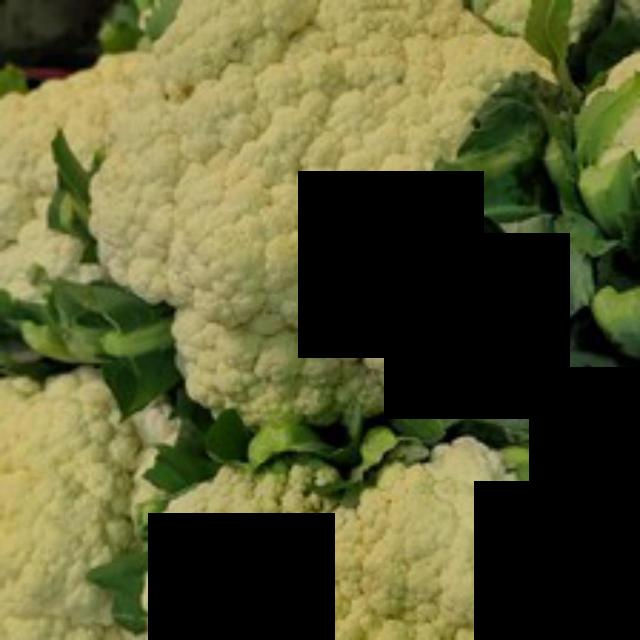cauliflower: (66, 0, 600, 461)
